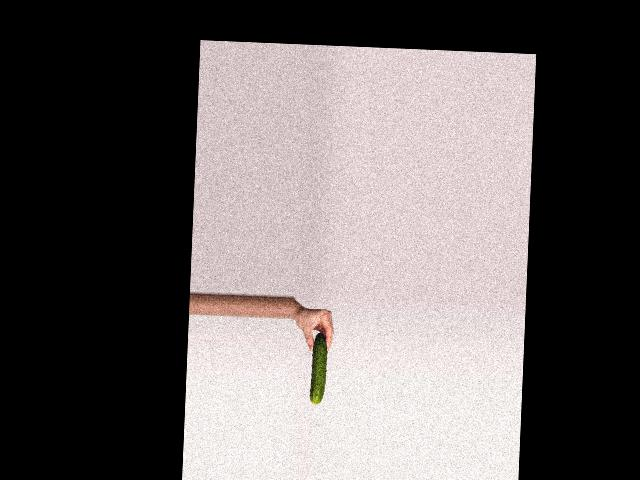cucumber: (310, 332, 327, 404)
